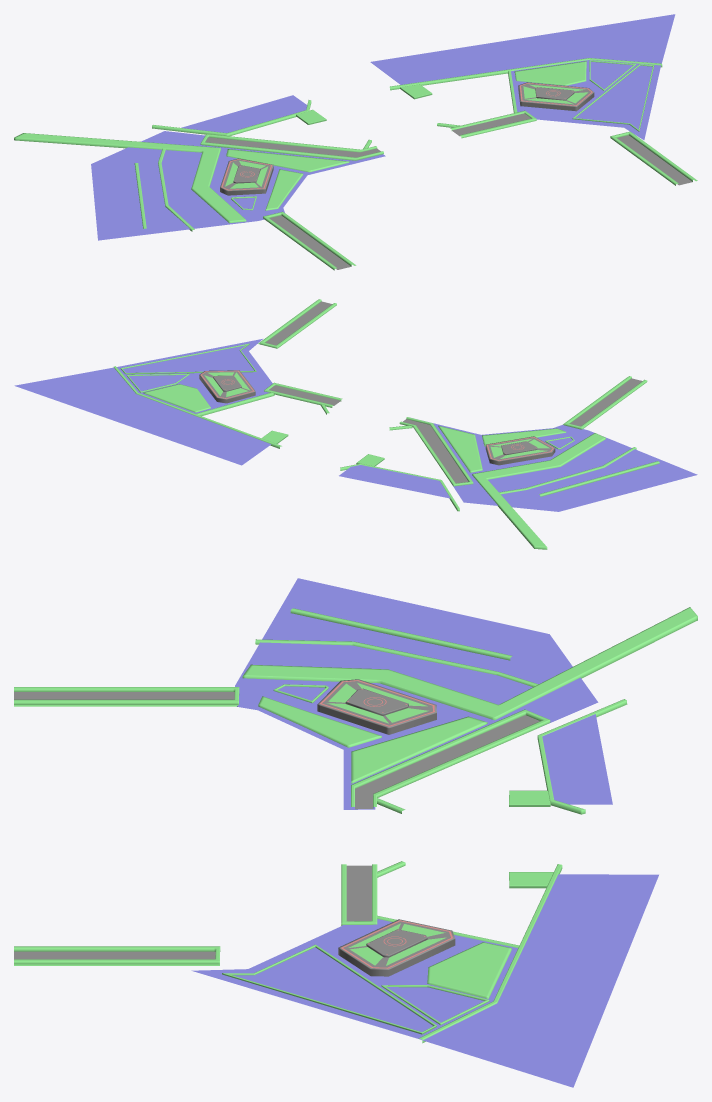
Rendered from CS_Grounds_Trim02.gltf.
3 views of the same model, one above another, from view 1: azimuth 30°, elevation 25°; view 2: azimuth 150°, elevation 25°; view 3: azimuth 270°, elevation 25° (orthographic). The views are drawn at different scales.
Visible parts, largest first — view 1: CS_Grounds_Trim02; view 2: CS_Grounds_Trim02; view 3: CS_Grounds_Trim02.
Part boxes in pixels (x1,y1,x2,y2): CS_Grounds_Trim02: [14, 14, 697, 270]; CS_Grounds_Trim02: [14, 299, 697, 549]; CS_Grounds_Trim02: [14, 578, 697, 1087].
Bounding box in the file's own units: 323 × 3.97 × 183.
